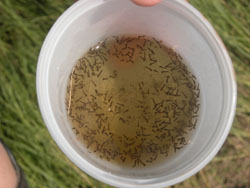container: (29, 1, 242, 188)
water: (68, 28, 208, 173)
